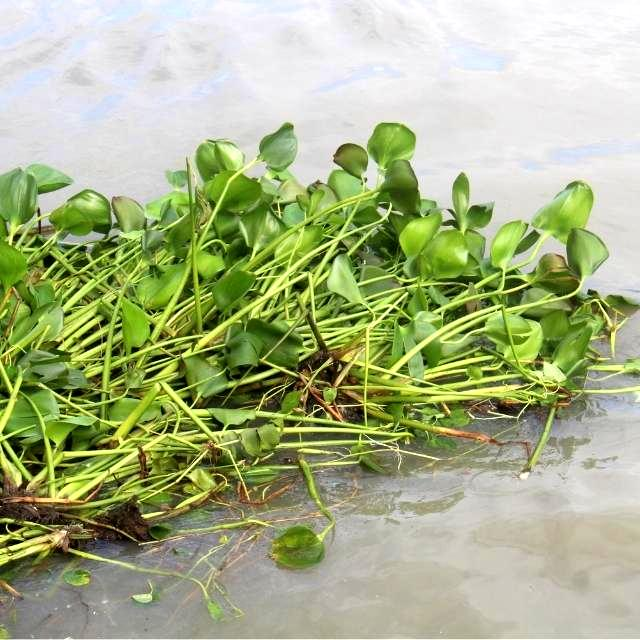water-hyacinth: (1, 97, 640, 603)
